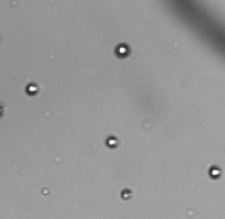Dead Cell: (121, 187, 132, 199)
Living Cell: (115, 43, 130, 56), (105, 136, 120, 148), (26, 82, 39, 95), (209, 165, 221, 179)
